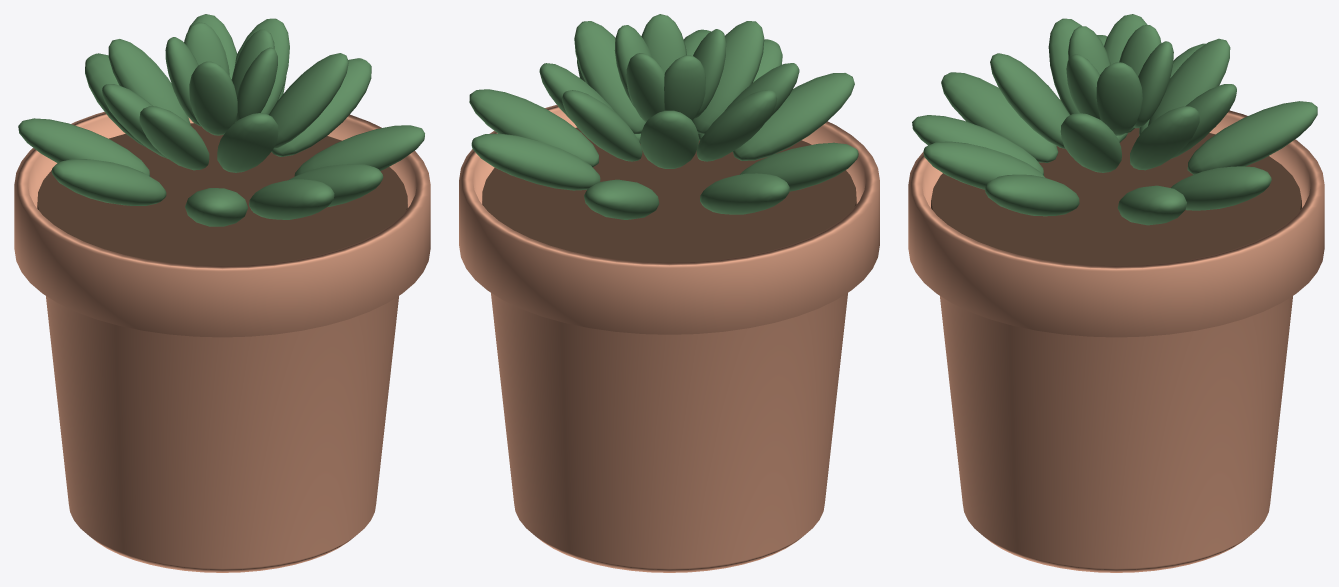
Rendered from succulent-v1.glb.
The picture shows the model from 3 angles, left to right: view 1: azimuth 30°, elevation 25°; view 2: azimuth 150°, elevation 25°; view 3: azimuth 270°, elevation 25°; orthographic projection.
Bounding box in the file's own units: 0.092 × 0.1147 × 0.092.
